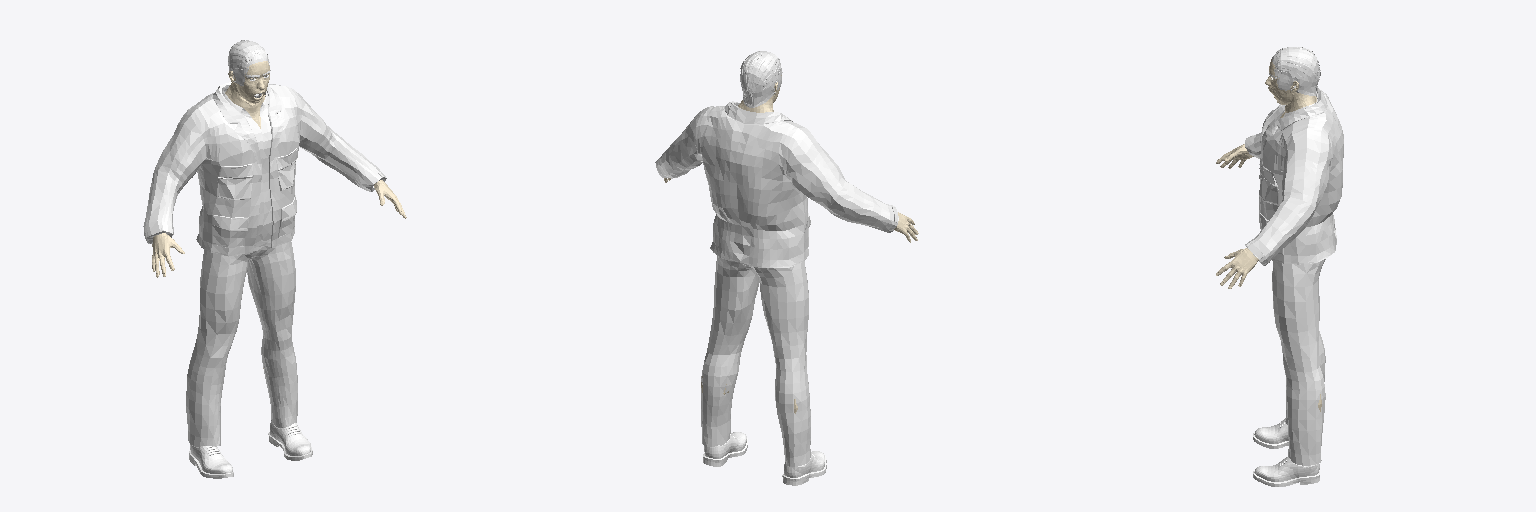
3 views of the same model, side by side, from view 1: azimuth 30°, elevation 25°; view 2: azimuth 150°, elevation 25°; view 3: azimuth 270°, elevation 25° (orthographic).
Parts seen in each view (by area): view 1: Ml1:Male_casualsuit05, Ml1:Body, Ml1:Shoes03, Ml1:Short04; view 2: Ml1:Male_casualsuit05, Ml1:Short04, Ml1:Shoes03, Ml1:Body; view 3: Ml1:Male_casualsuit05, Ml1:Body, Ml1:Shoes03, Ml1:Short04.
Part boxes in pixels (x1,y1,x2,y2): Ml1:Male_casualsuit05: (143, 82, 386, 446); Ml1:Body: (152, 61, 406, 277); Ml1:Shoes03: (189, 420, 312, 478); Ml1:Short04: (228, 40, 269, 85); Ml1:Male_casualsuit05: (655, 101, 898, 466); Ml1:Short04: (740, 51, 781, 107); Ml1:Shoes03: (703, 432, 826, 485); Ml1:Body: (664, 72, 918, 242); Ml1:Male_casualsuit05: (1245, 87, 1343, 465); Ml1:Body: (1216, 59, 1316, 288); Ml1:Shoes03: (1253, 418, 1319, 486); Ml1:Short04: (1272, 47, 1320, 95).
Size of the model in its own units: 1.31 by 2.08 by 0.5843.